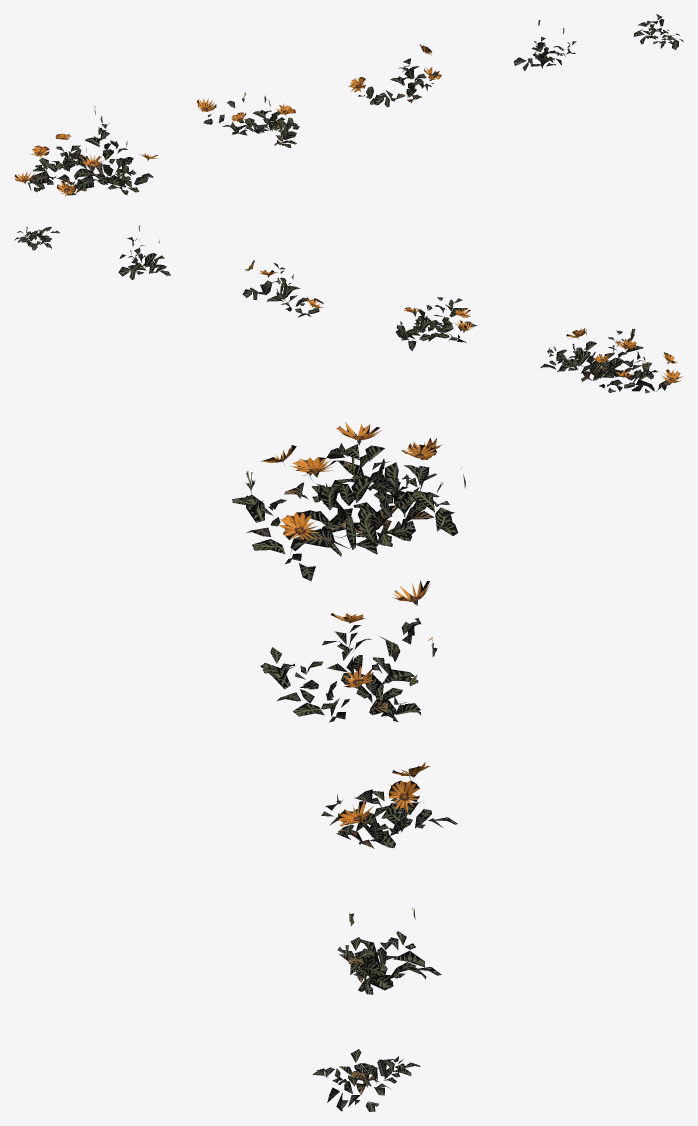
File: flower_c.glb
3 renders of one model, top to bottom at view 1: azimuth 30°, elevation 25°; view 2: azimuth 150°, elevation 25°; view 3: azimuth 270°, elevation 25°, orthographic. The views are drawn at different scales.
Parts seen in each view (by area): view 1: flower_ursinia_a_LOD0, flower_ursinia_b_LOD0, flower_ursinia_c_LOD0, flower_ursinia_d_LOD0, flower_ursinia_e_LOD0; view 2: flower_ursinia_a_LOD0, flower_ursinia_b_LOD0, flower_ursinia_c_LOD0, flower_ursinia_d_LOD0, flower_ursinia_e_LOD0; view 3: flower_ursinia_a_LOD0, flower_ursinia_b_LOD0, flower_ursinia_c_LOD0, flower_ursinia_d_LOD0, flower_ursinia_e_LOD0.
Part boxes in pixels (<box>): flower_ursinia_a_LOD0: <box>14,106,158,196</box>; flower_ursinia_b_LOD0: <box>197,92,299,147</box>; flower_ursinia_c_LOD0: <box>349,44,441,107</box>; flower_ursinia_d_LOD0: <box>513,20,576,70</box>; flower_ursinia_e_LOD0: <box>633,14,683,49</box>; flower_ursinia_a_LOD0: <box>540,328,682,393</box>; flower_ursinia_b_LOD0: <box>396,297,477,351</box>; flower_ursinia_c_LOD0: <box>242,260,323,317</box>; flower_ursinia_d_LOD0: <box>118,225,170,279</box>; flower_ursinia_e_LOD0: <box>14,226,60,250</box>; flower_ursinia_a_LOD0: <box>232,422,465,581</box>; flower_ursinia_b_LOD0: <box>260,580,437,722</box>; flower_ursinia_c_LOD0: <box>321,762,457,848</box>; flower_ursinia_d_LOD0: <box>337,907,441,994</box>; flower_ursinia_e_LOD0: <box>312,1049,420,1111</box>.
Size of the model in its own units: 2.19 by 0.1704 by 0.3342.
Materials: 1 (1 with a texture image).
